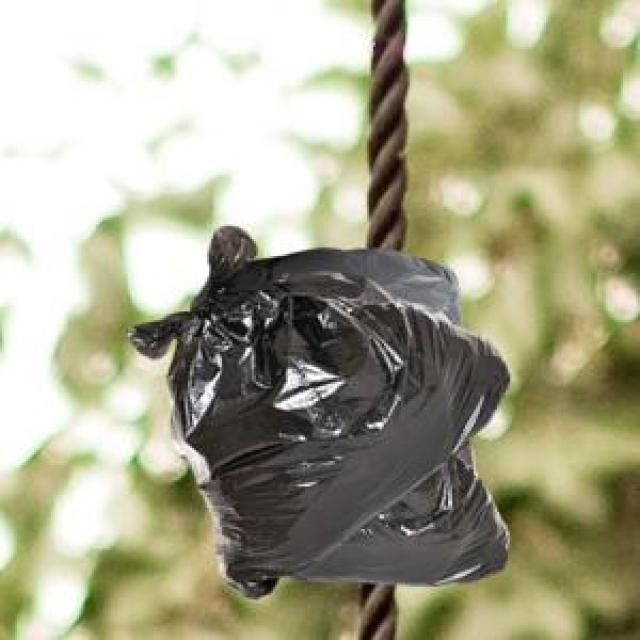garbage_bag: (126, 220, 514, 600)
